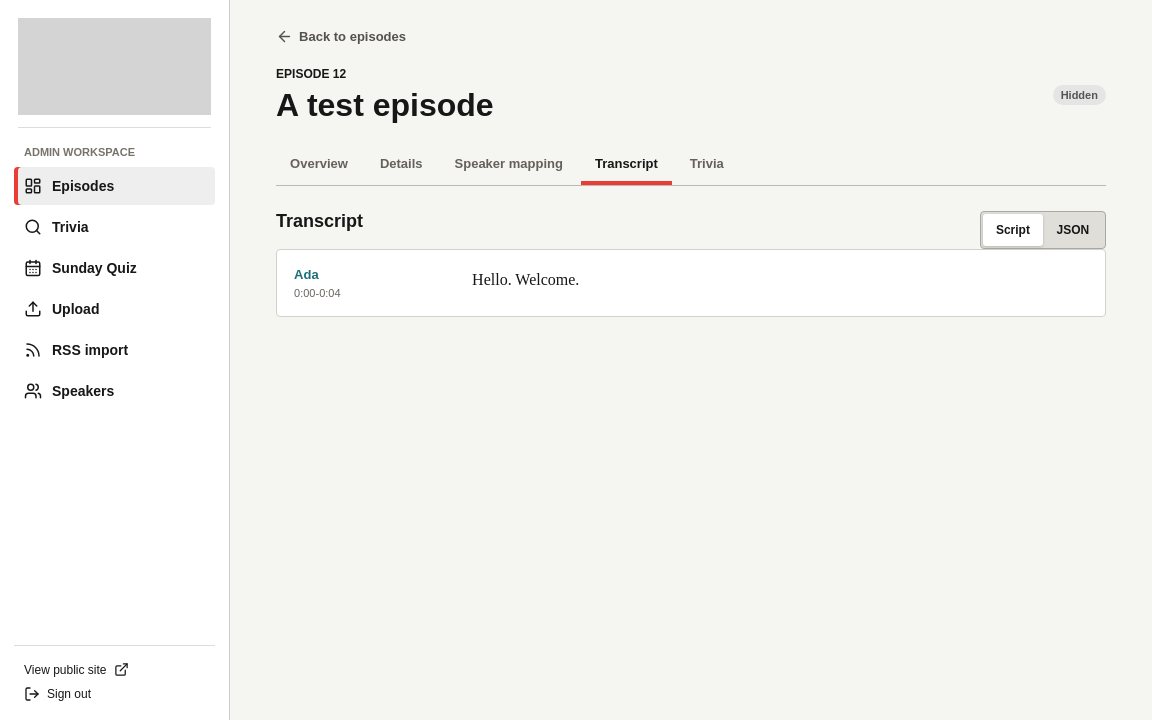
Scenario: episode workspace routing › defaults to grouped Script and preserves the JSON transcript view
Expected: the text "Hello. Welcome." is shown, 472,270 -> 579,288
Expected: the text "Ada" is shown, 294,266 -> 319,282
Click the button "JSON".
click(1073, 230)  # box 1043,214 -> 1103,246
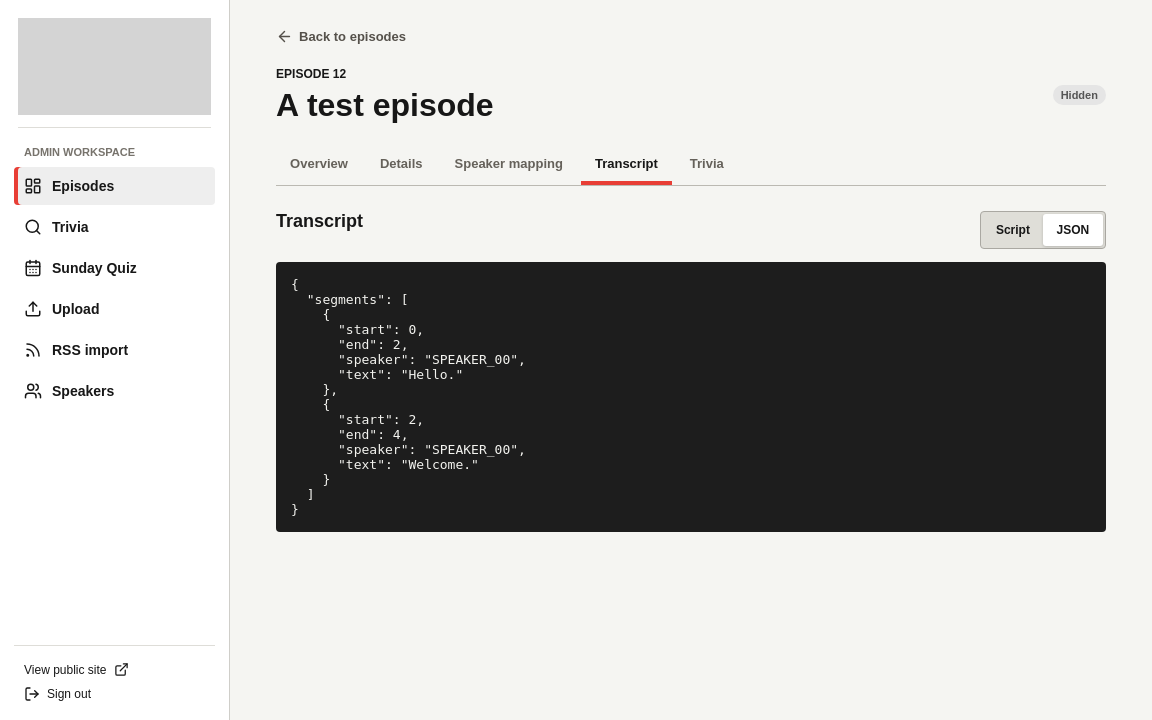
Now the text "\"segments\"" is shown, box 291,276 -> 526,516
